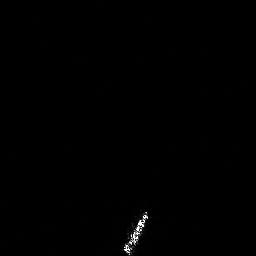ship: (120, 208, 150, 256)
